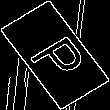P_NE: (20, 26, 90, 84)
